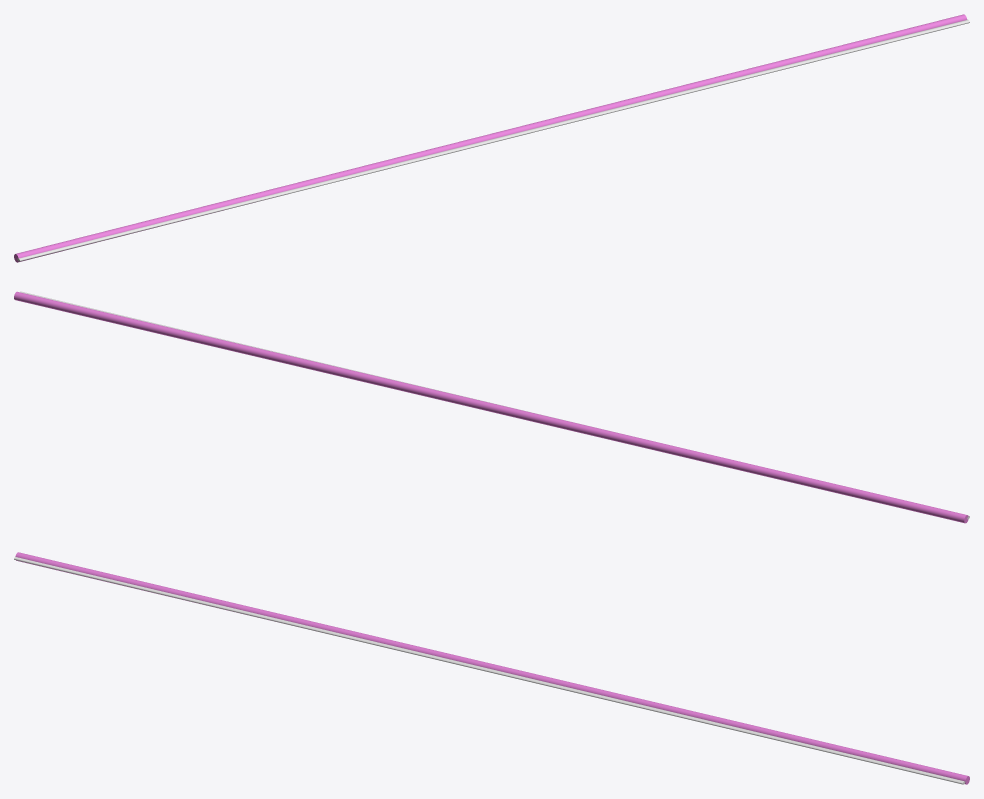
Rendered from lights.fbx.
3 renders of one model, top to bottom at view 1: azimuth 30°, elevation 25°; view 2: azimuth 150°, elevation 25°; view 3: azimuth 330°, elevation 25°, orthographic.
Parts seen in each view (by area): view 1: pCylinder2; view 2: pCylinder2; view 3: pCylinder2.
Part boxes in pixels (x1=…): pCylinder2: x1=14, y1=14, x2=969, y2=262; pCylinder2: x1=14, y1=291, x2=969, y2=523; pCylinder2: x1=14, y1=552, x2=969, y2=784.
Size of the model in its own units: 23.24 by 0.1896 by 0.6125.
